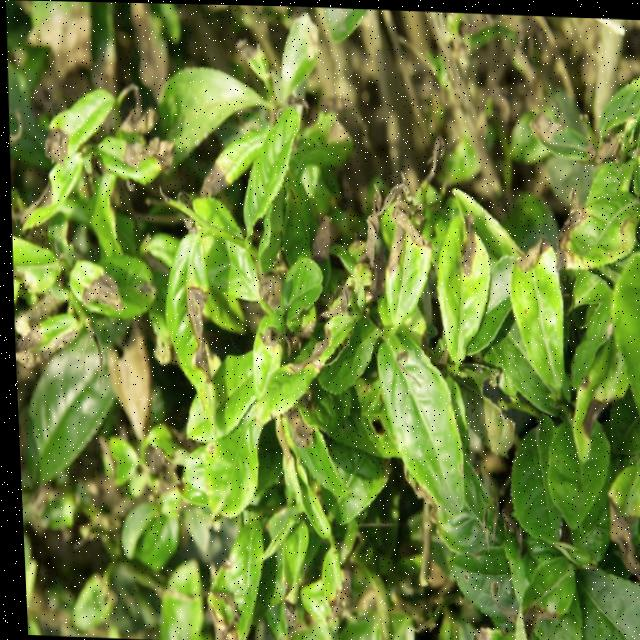Tea cloud leaf blight: (255, 392, 325, 470), (170, 282, 218, 384), (382, 203, 430, 288), (67, 258, 122, 329), (511, 198, 556, 281), (553, 192, 599, 271), (453, 184, 487, 284), (279, 332, 345, 383)
